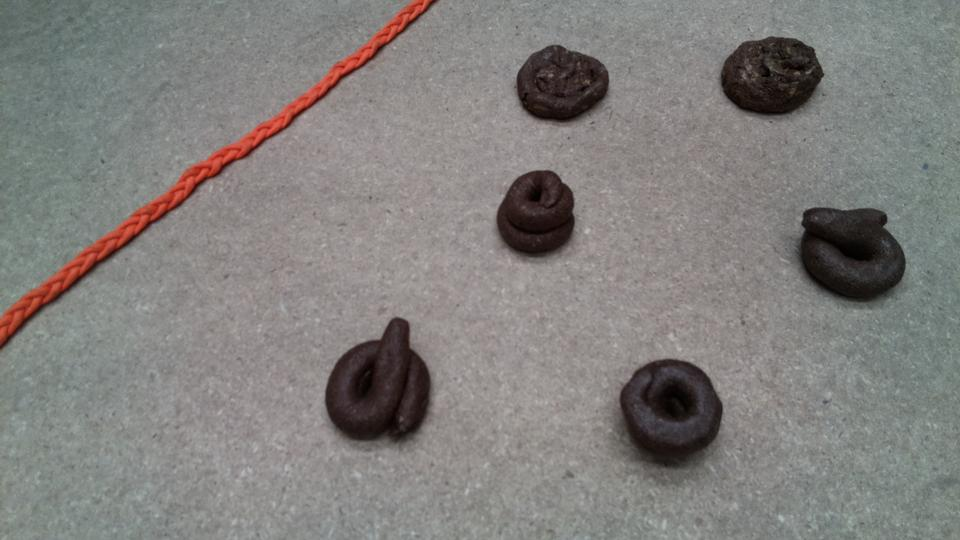poop: (321, 313, 436, 448), (616, 354, 726, 471), (798, 203, 908, 305), (717, 34, 829, 120), (514, 41, 613, 124), (495, 166, 578, 258)
rope: (2, 1, 429, 343)
